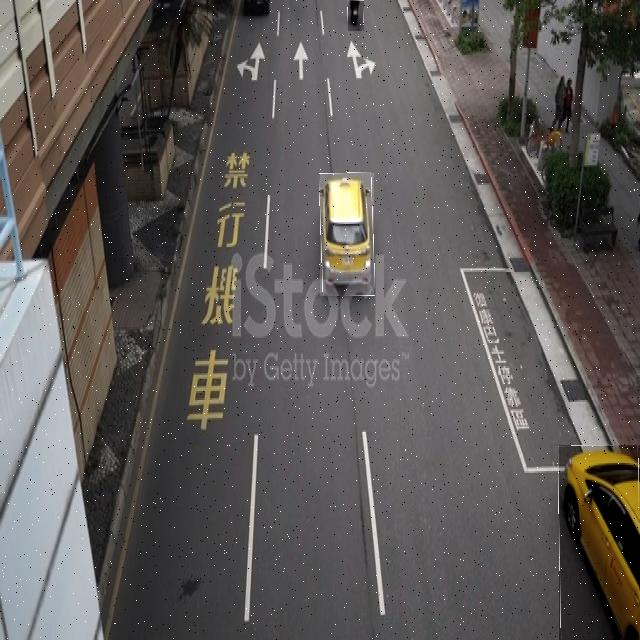Car: (559, 445, 640, 640), (320, 173, 374, 296)
Motorcycle: (348, 0, 364, 31)
